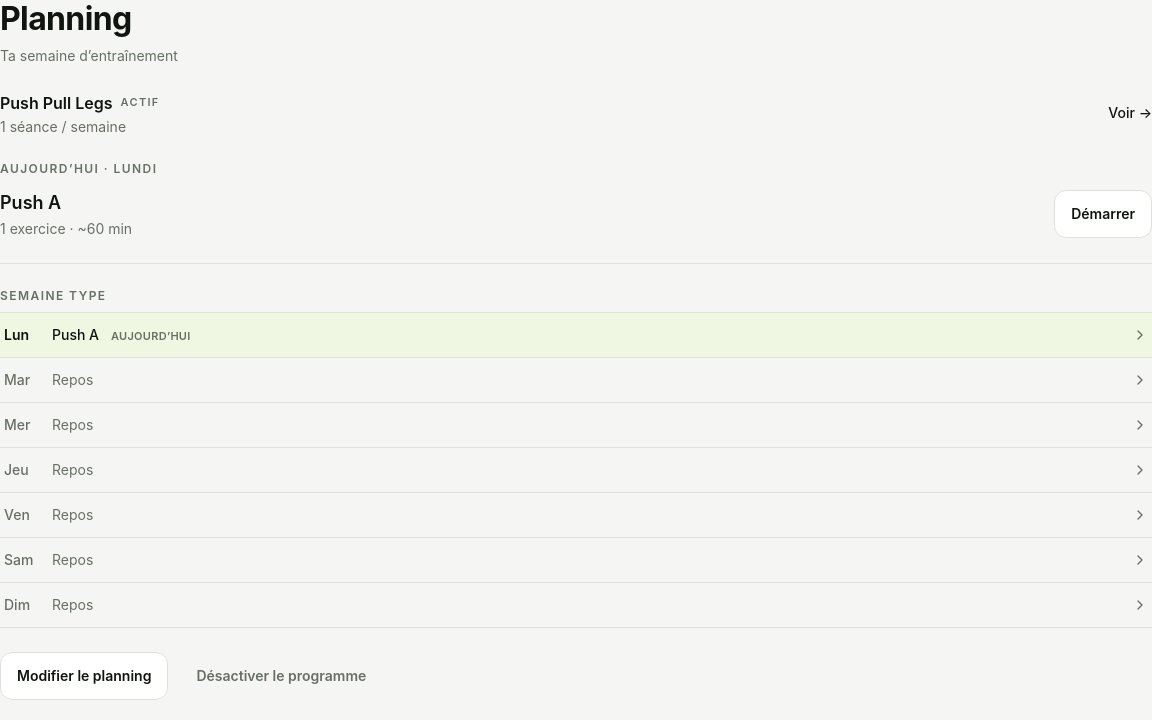
Test: PlanningPage › deactivates the active program
Expected: the text "Push Pull Legs" is shown, [0,91,113,115]
What coordinates should you click on to do the following:
click the button "Désactiver le programme"
I would click on:
 (281, 676)
Its box is [180,652,382,700].
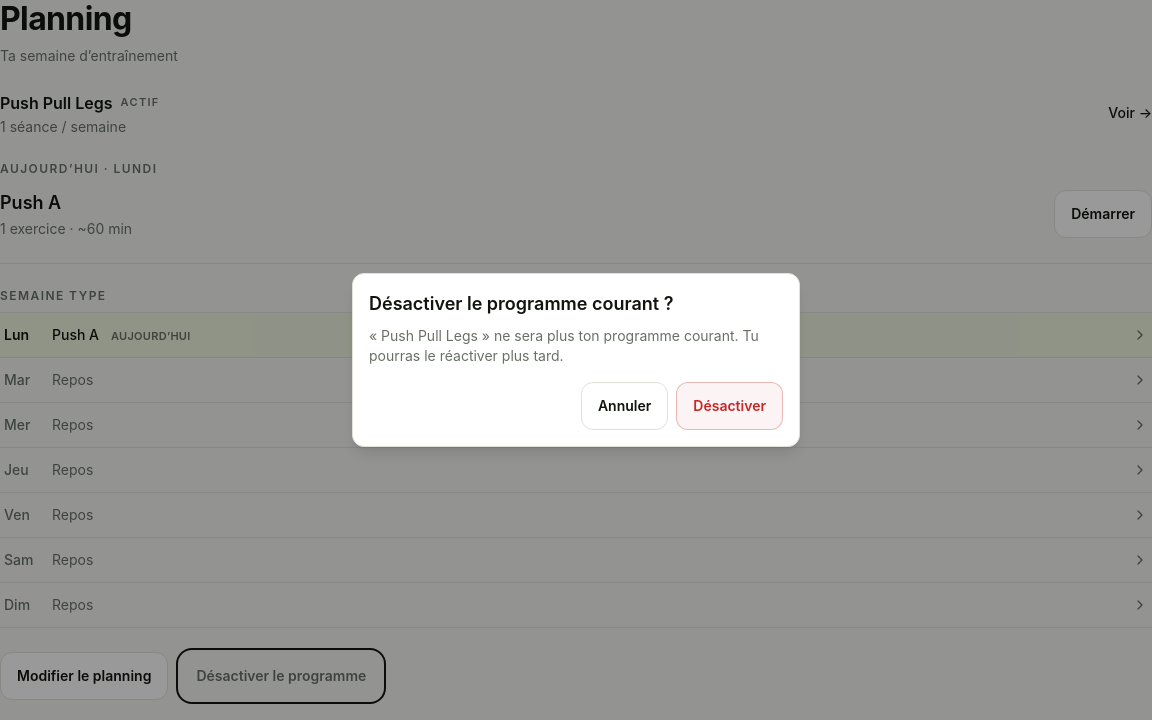
What coordinates should you click on to do the following:
click the button "Désactiver"
I would click on:
 (730, 406)
Its box is [676,382,783,430].
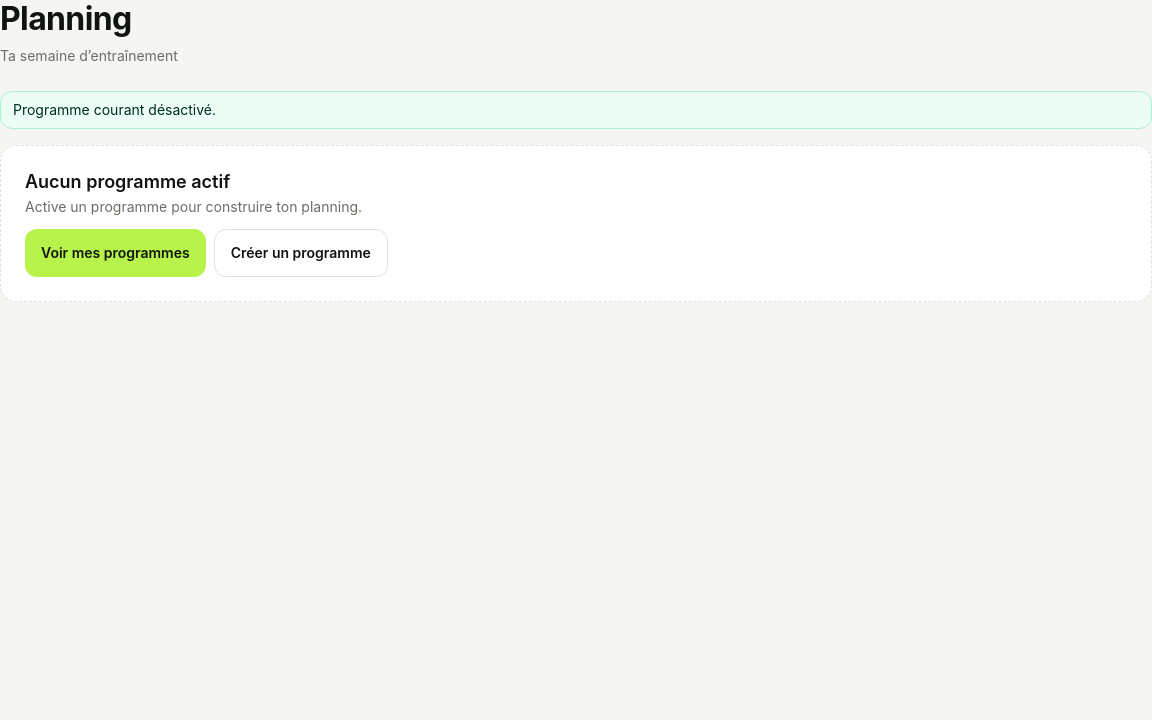
Expected: the text "Programme courant désactivé." is shown, [0,91,1151,129]
